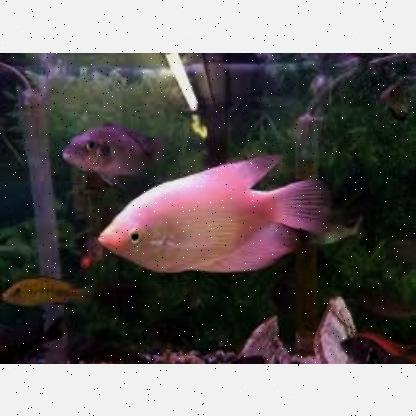gurame: (93, 166, 325, 276)
